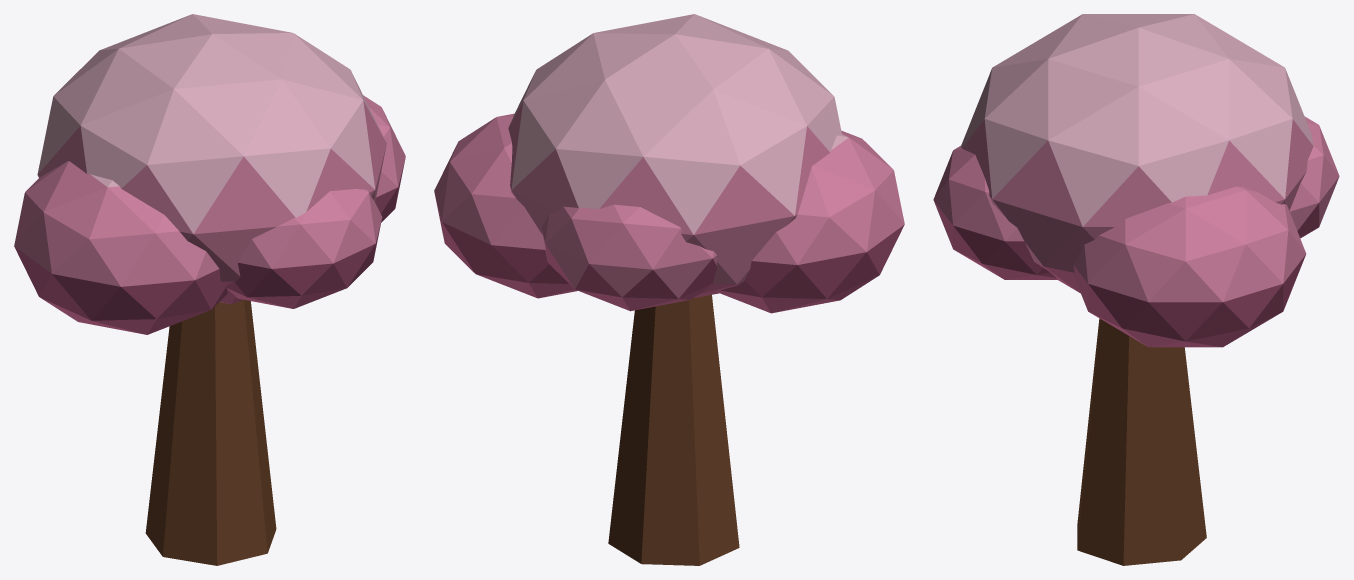
Rendered from Garden_BlossomTree.glb.
3 views of the same model, side by side, from view 1: azimuth 30°, elevation 25°; view 2: azimuth 150°, elevation 25°; view 3: azimuth 270°, elevation 25° (orthographic).
Visible parts, largest first — view 1: GardenBlossom; view 2: GardenBlossom; view 3: GardenBlossom.
Part boxes in pixels (x1,y1,x2,y2): GardenBlossom: (14,14,405,565); GardenBlossom: (434,14,904,565); GardenBlossom: (933,14,1339,565).
Bounding box in the file's own units: 2.94 × 3.59 × 2.59.
